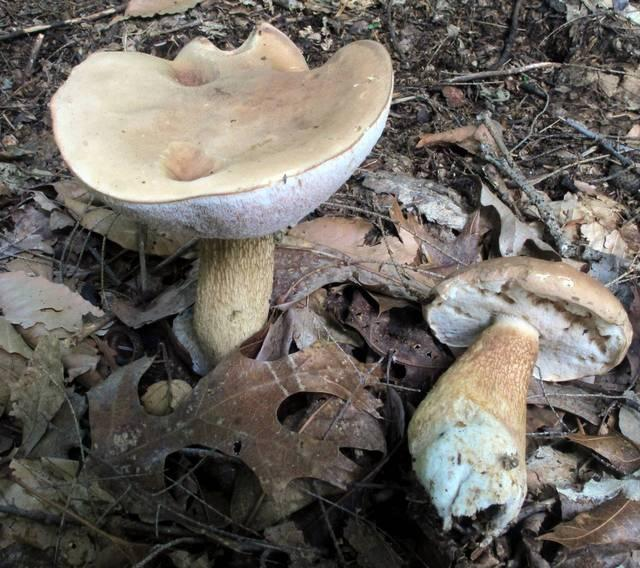poisonous_mushroom: (47, 20, 395, 374), (405, 254, 634, 549)
